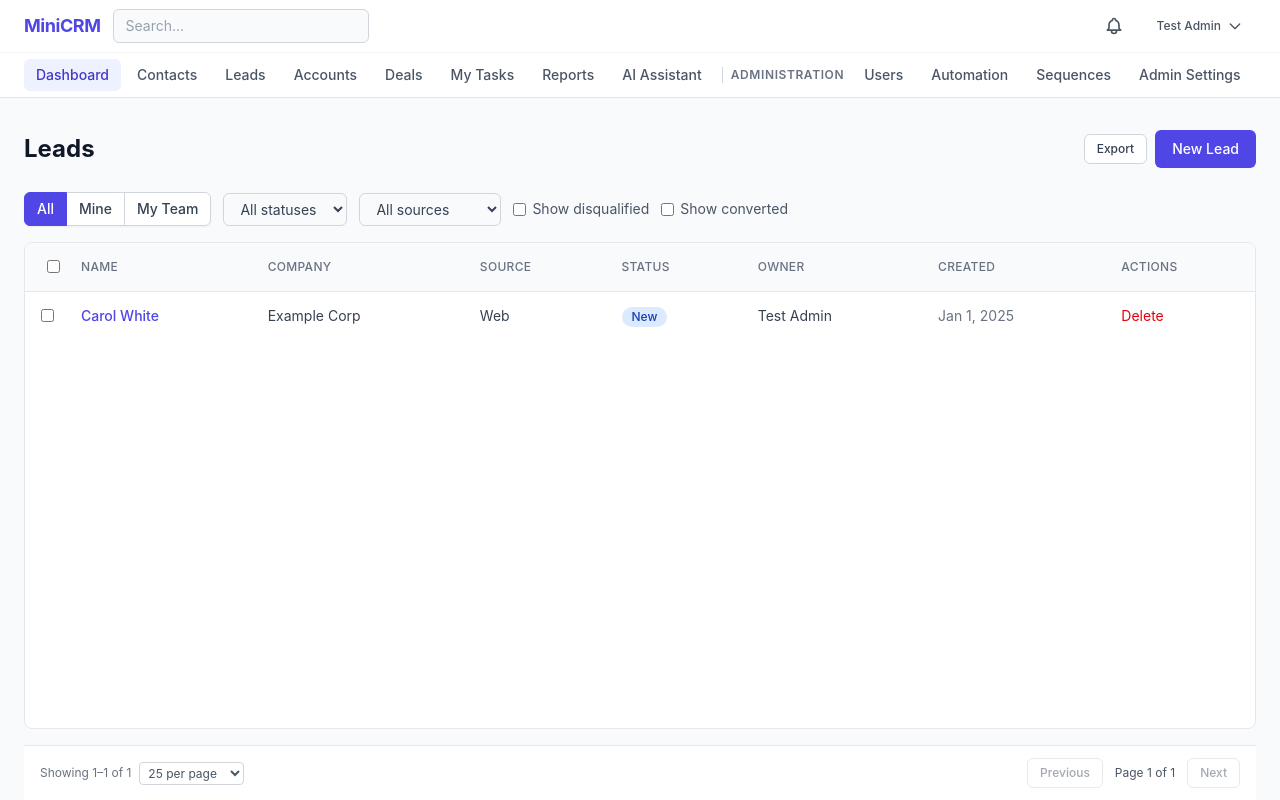
Test: LeadsPage › hides the form when Cancel is clicked
Step 1. Click the button with test id "new-lead-button" → {"x": 1206, "y": 149}, box [1155, 130, 1256, 168]
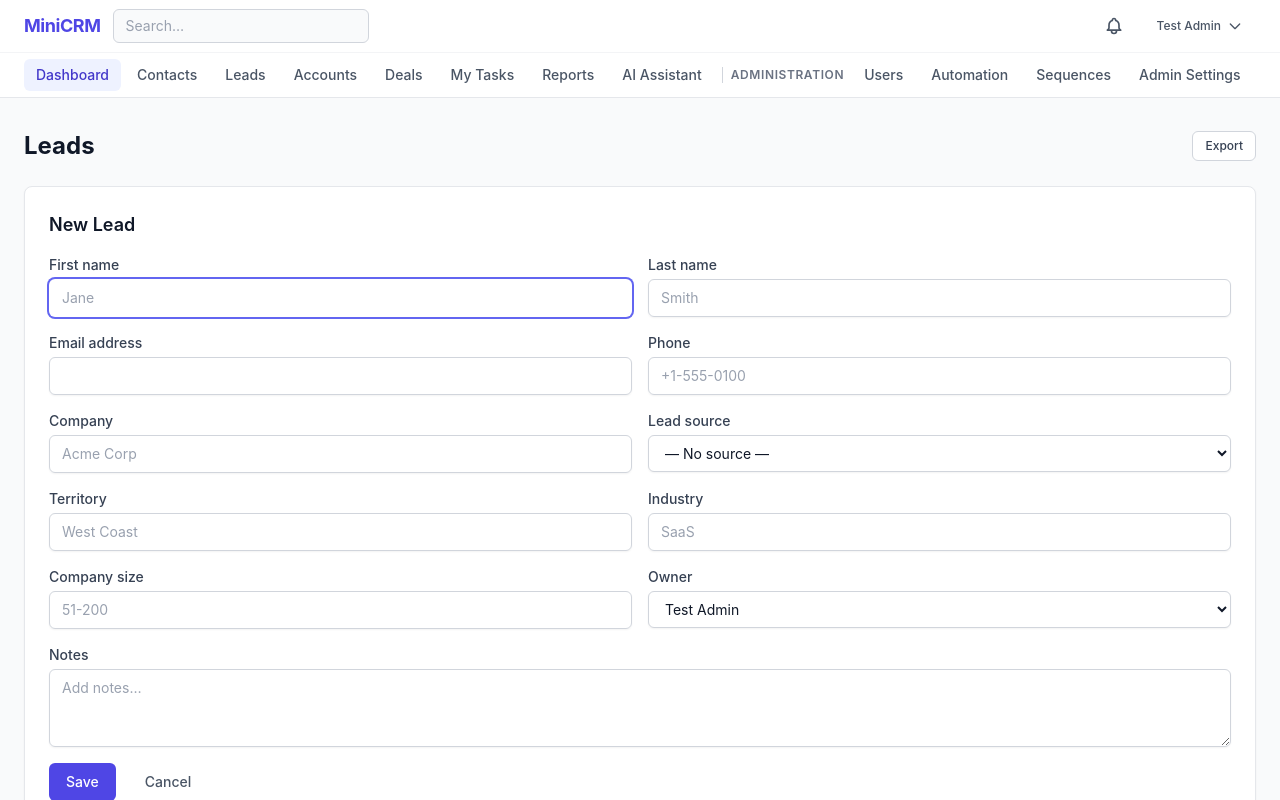
Result: the form with test id "lead-form" is shown
Step 2. Click the button with test id "lead-form-cancel" → {"x": 168, "y": 782}, box [128, 763, 208, 799]
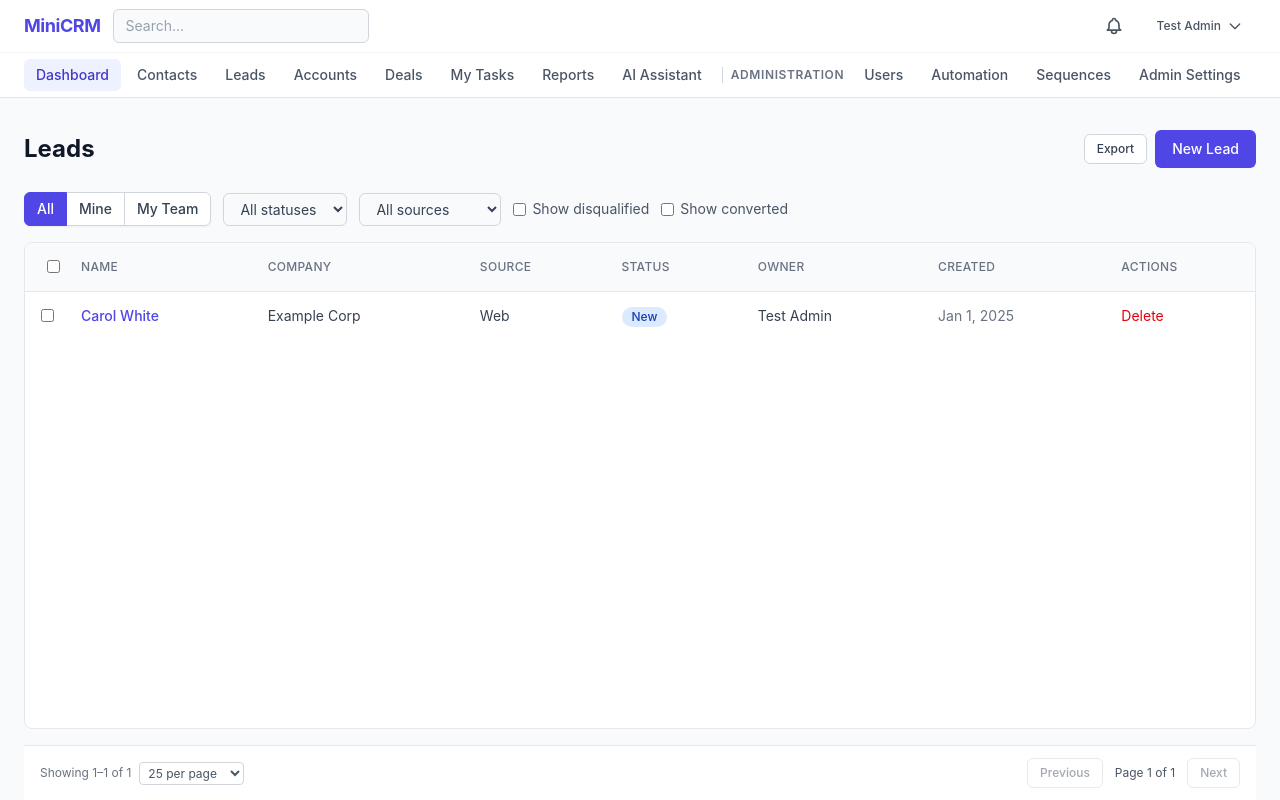
Result: the form with test id "lead-form" is gone
